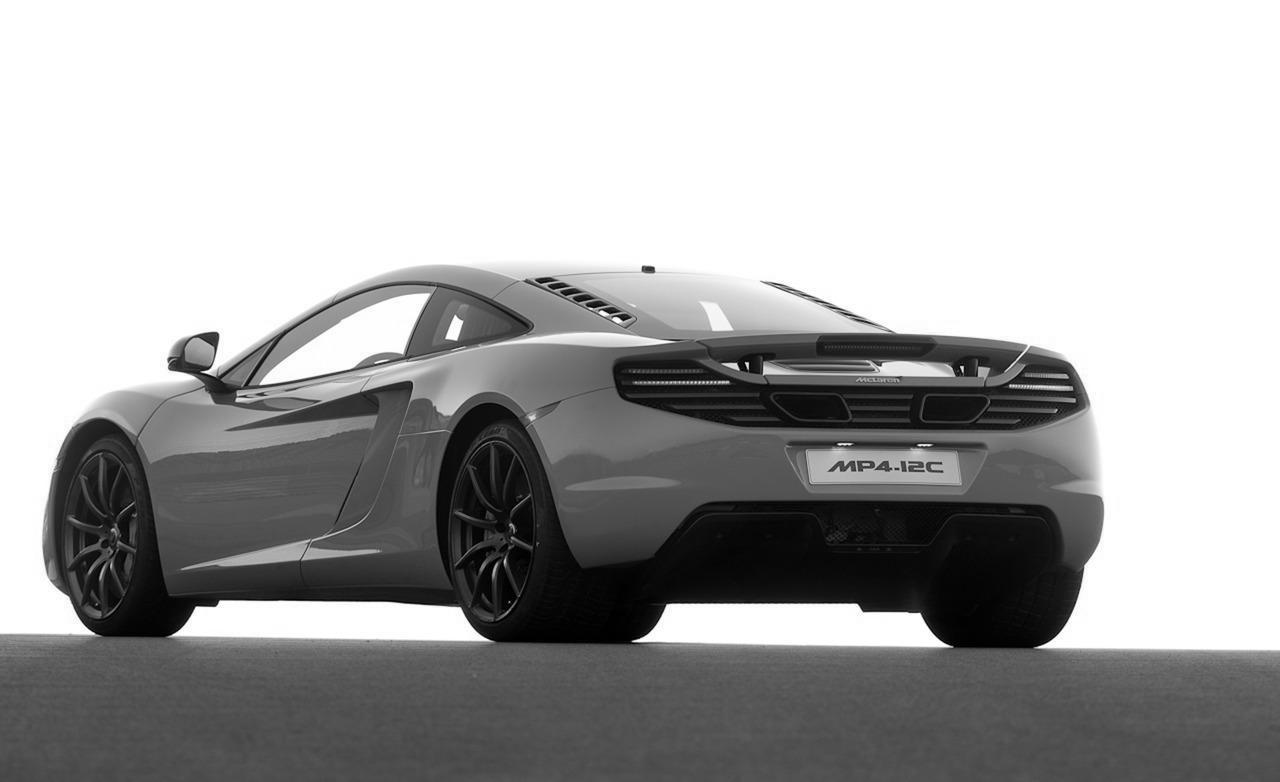car: (38, 261, 1106, 654)
